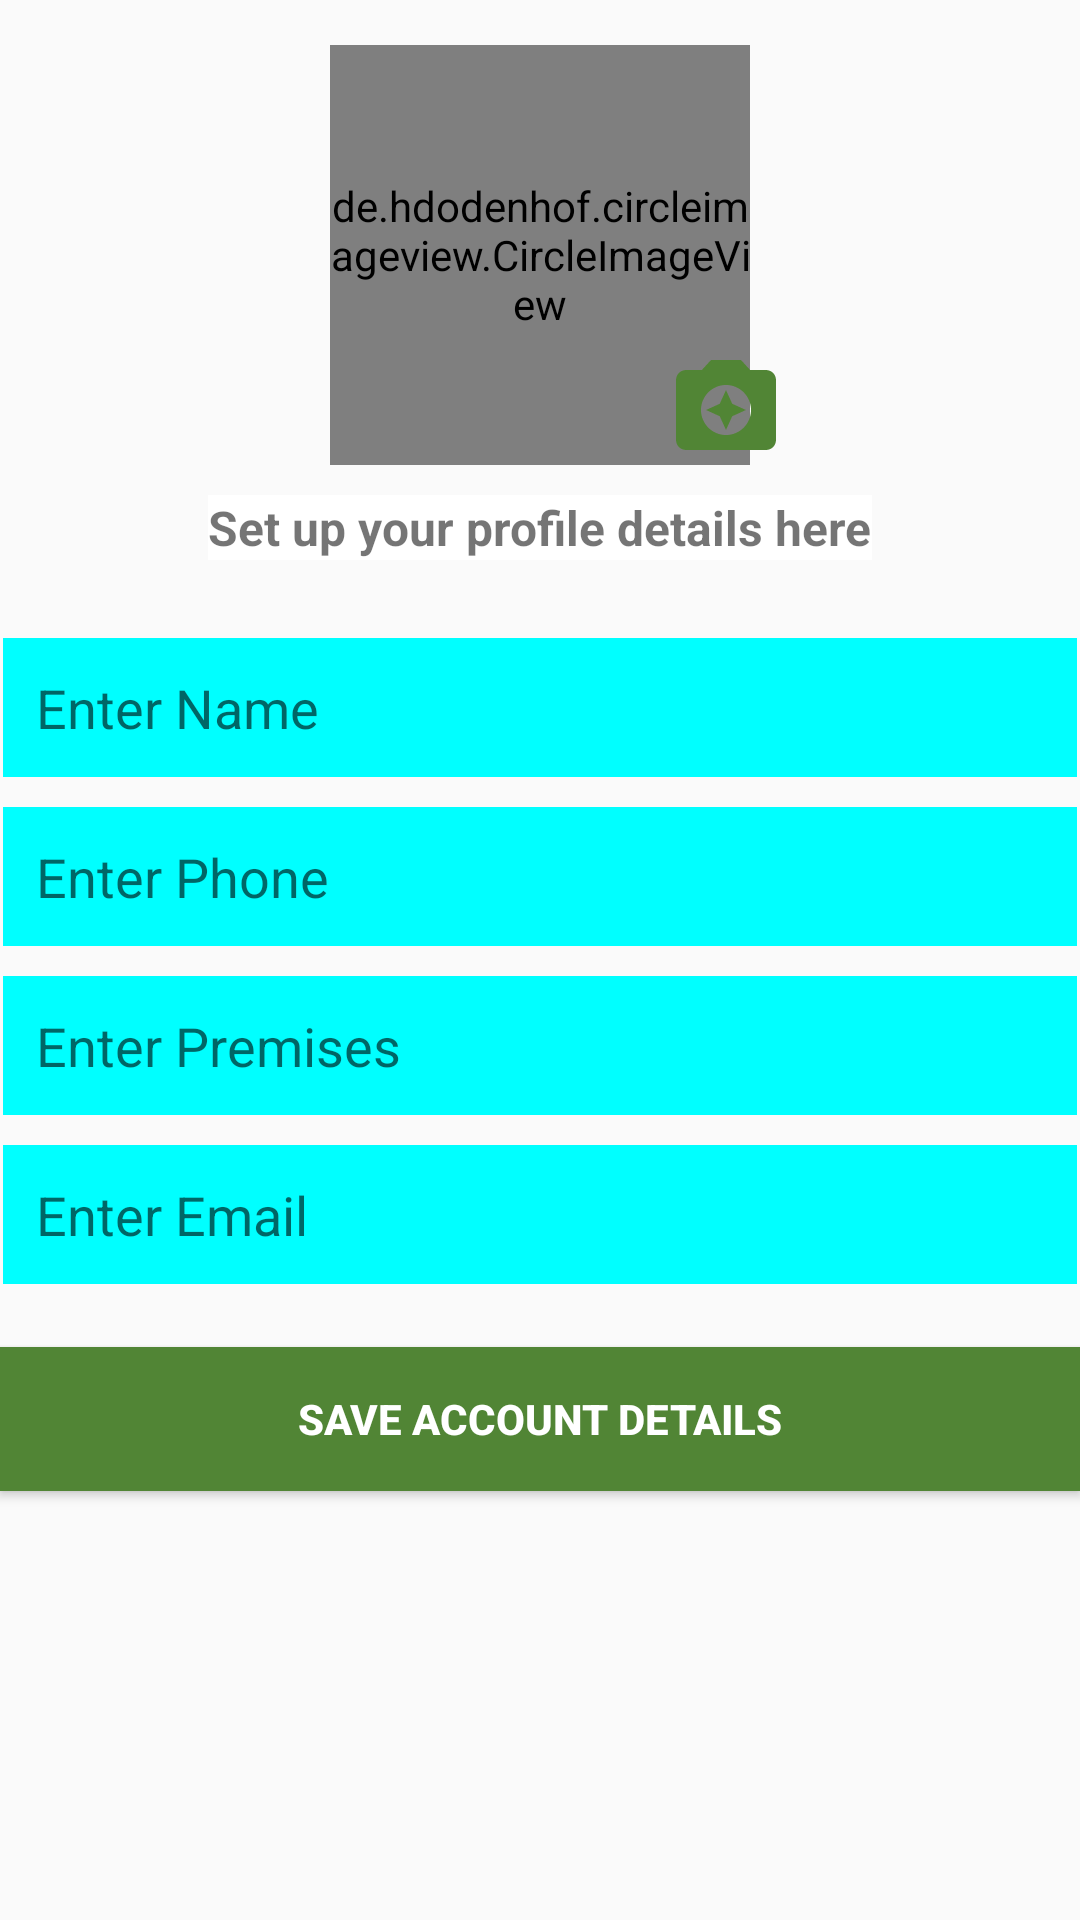

Where to tap for icons on this 1080 × 1920 app screen, as point (x, y):
camera picker: point (713, 405)
